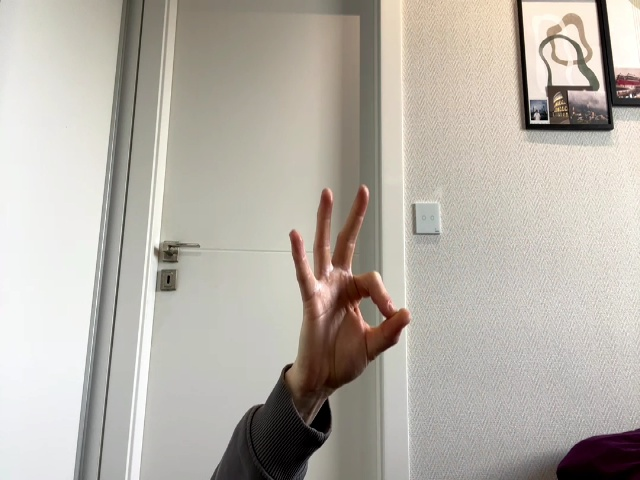O: (289, 184, 410, 389)
